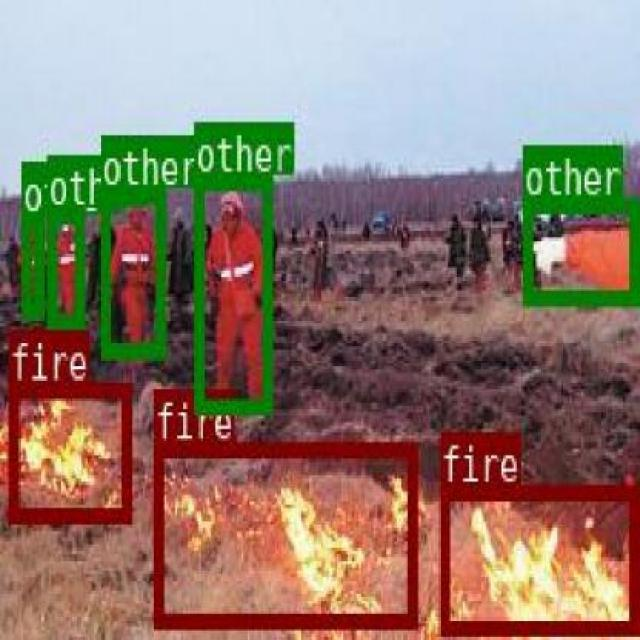fire: (152, 440, 414, 626), (439, 482, 636, 630), (7, 380, 128, 520)
